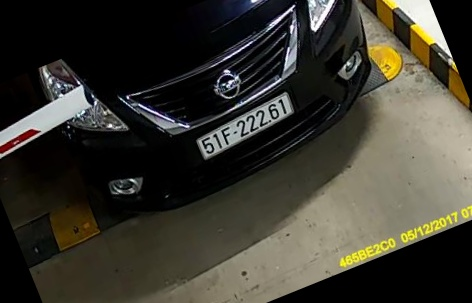plate: (191, 93, 301, 167)
